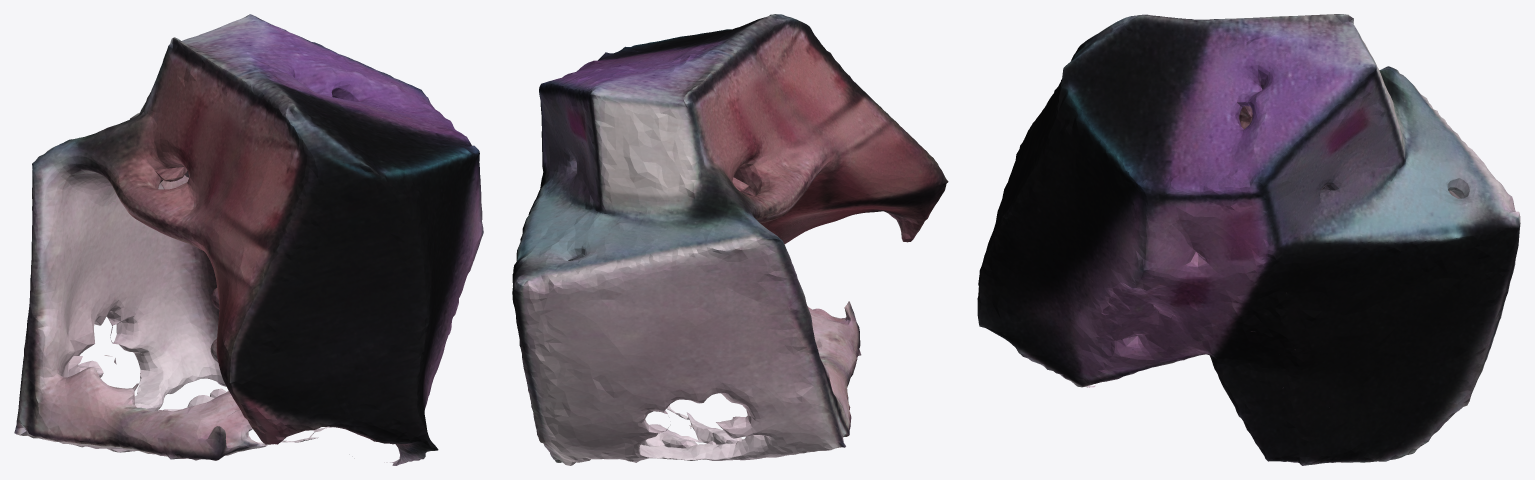
The model's file is minecraft_pig.glb.
3 views of the same model, side by side, from view 1: azimuth 30°, elevation 25°; view 2: azimuth 150°, elevation 25°; view 3: azimuth 270°, elevation 25° (orthographic). The views are drawn at different scales.
Size of the model in its own units: 0.8129 by 0.8618 by 1.07.
1 material, 1 textured.
